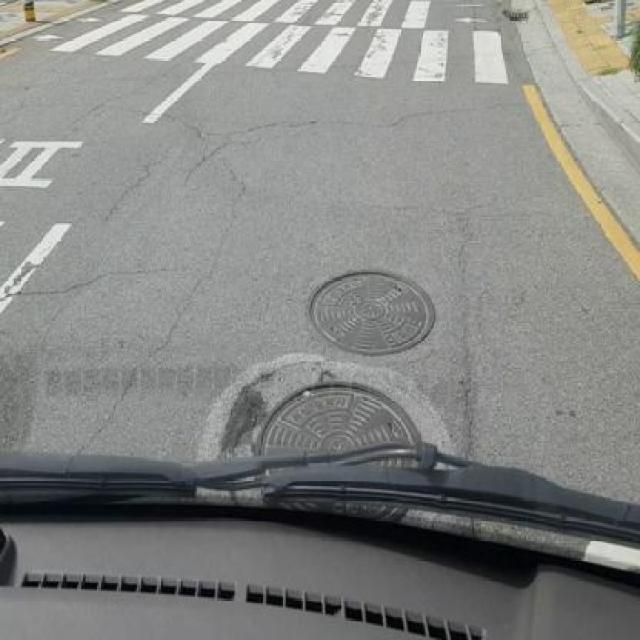Manhole: (214, 374, 420, 451), (306, 267, 439, 361), (507, 8, 533, 22)
